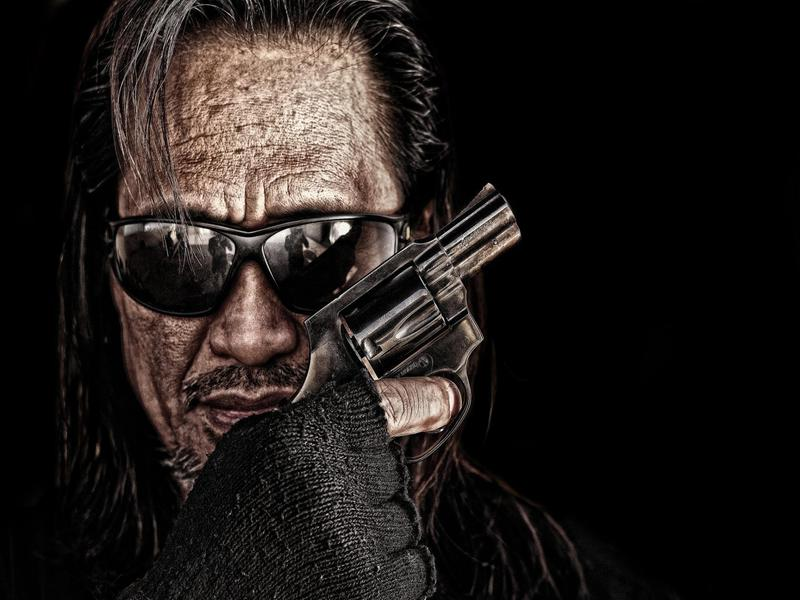Revolver: (301, 164, 530, 449)
